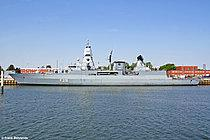MIL_Ship: (8, 39, 203, 88)
